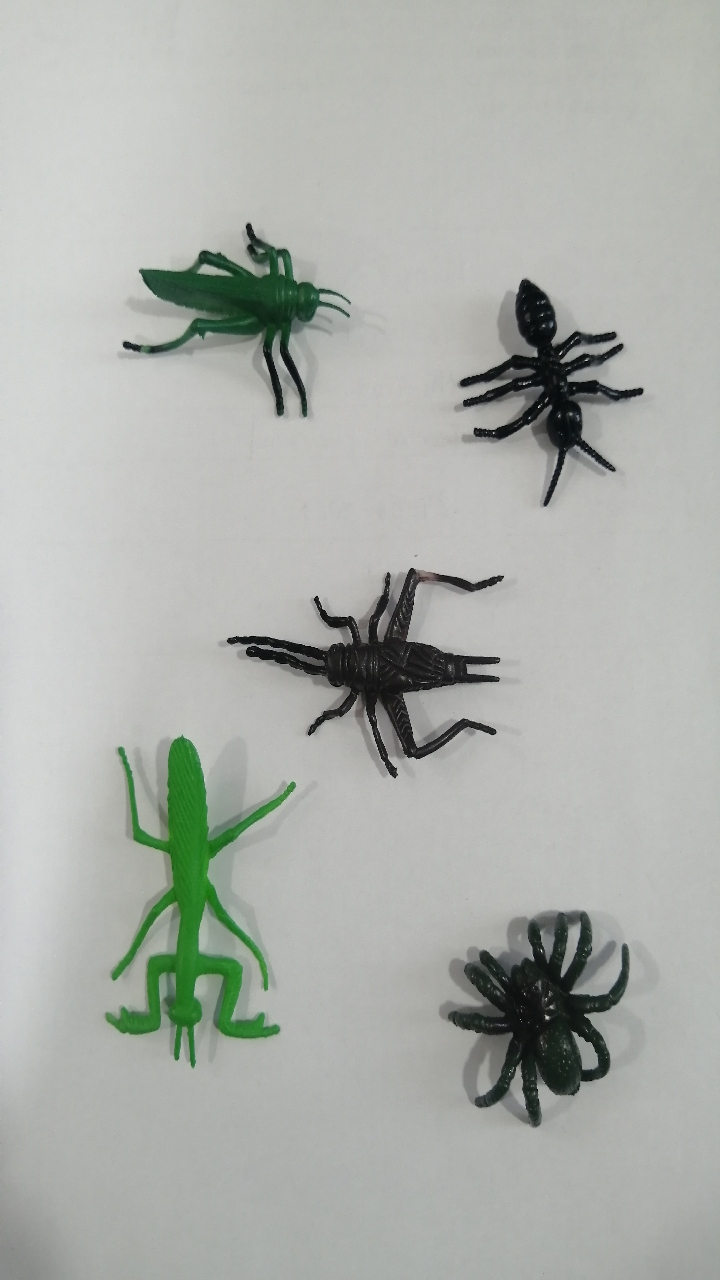intruso: (75, 703, 315, 1117), (208, 532, 543, 806), (398, 875, 658, 1142), (415, 254, 664, 522), (95, 206, 366, 440)
